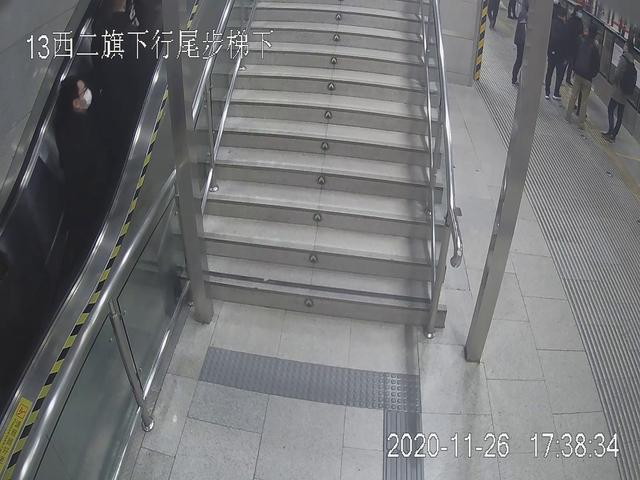person: (42, 72, 116, 265), (566, 19, 606, 133), (602, 38, 640, 142), (547, 9, 574, 100)
